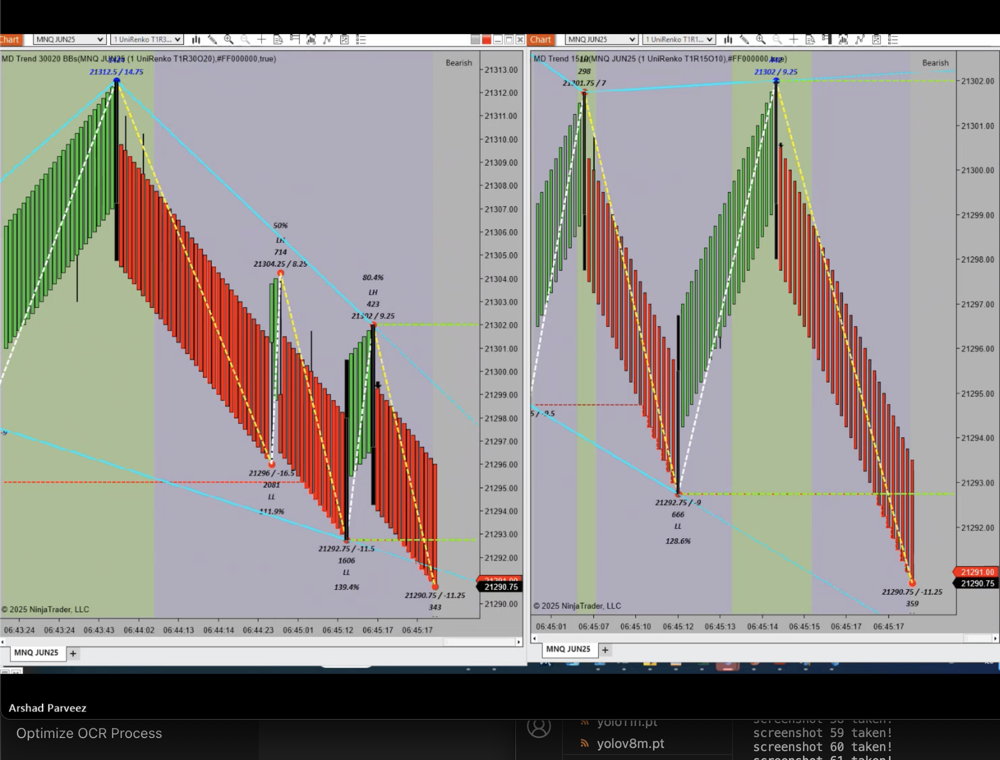LH: (266, 227, 291, 245), (363, 285, 386, 299)
LL: (337, 564, 361, 584), (667, 518, 690, 537), (261, 490, 282, 505)
